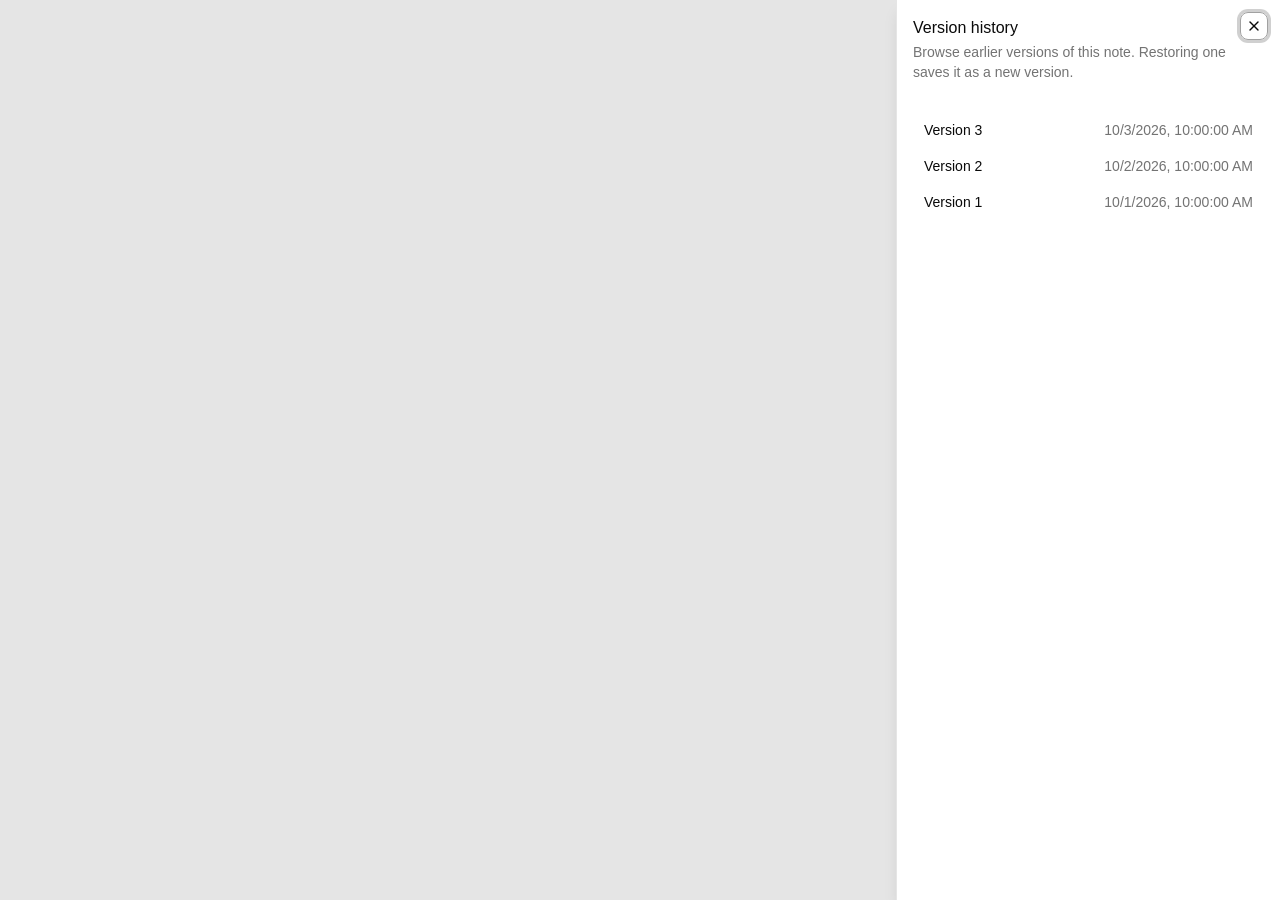
Test case: version drawer › S-AB1015-01: the drawer lists versions and shows a selected one read-only
Expected: the text "10/3/2026, 10:00:00 AM" is shown, 1104,120 -> 1253,140
Expected: the text "10/2/2026, 10:00:00 AM" is shown, 1104,156 -> 1253,176
Click the button "Version 2 10/2/2026, 10:00:00 AM".
click(949, 166)  # box 913,150 -> 1264,182
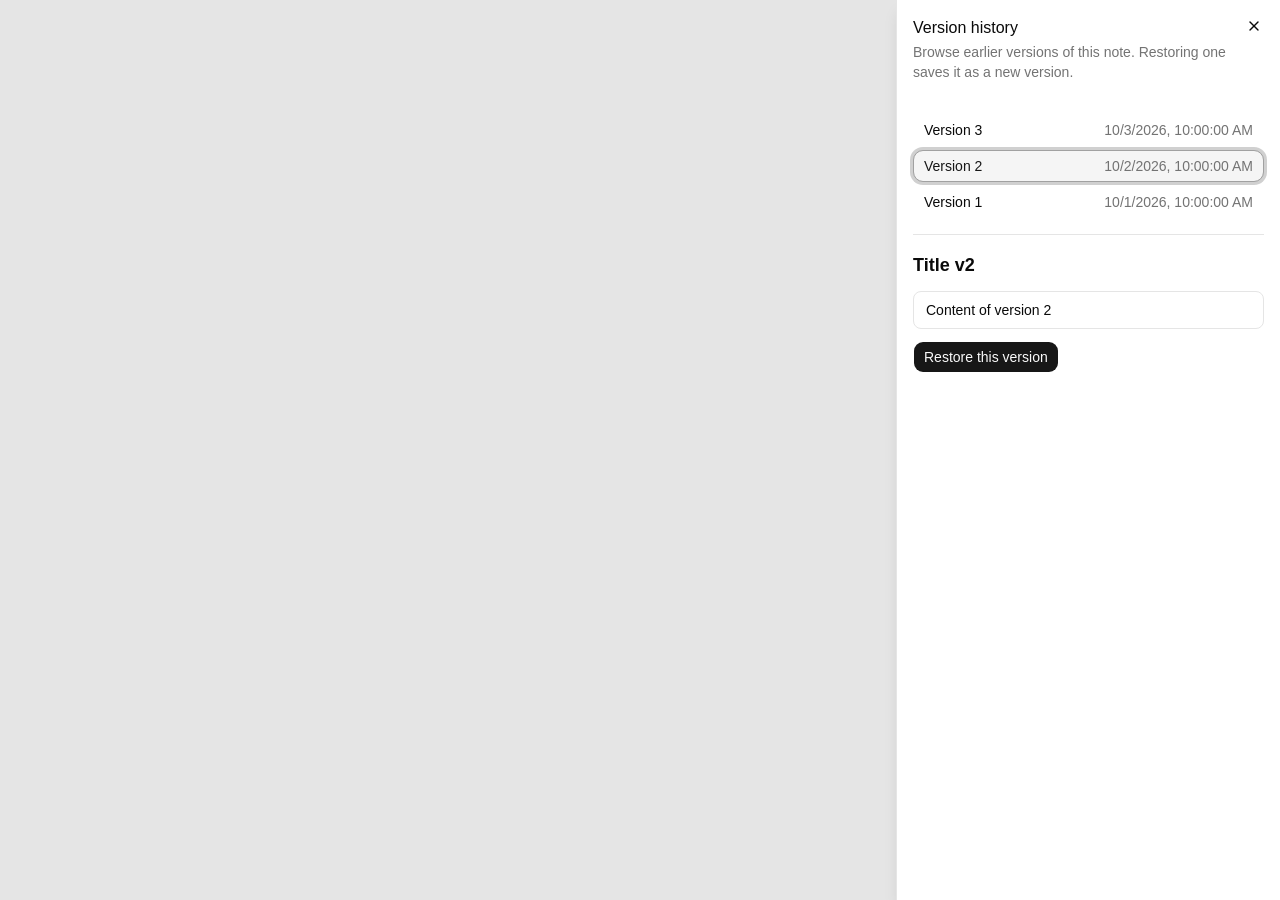
Expected: the heading "Title v2" is shown, 913,255 -> 975,275
Expected: the text "Content of version 2" is shown, 926,302 -> 1051,318
